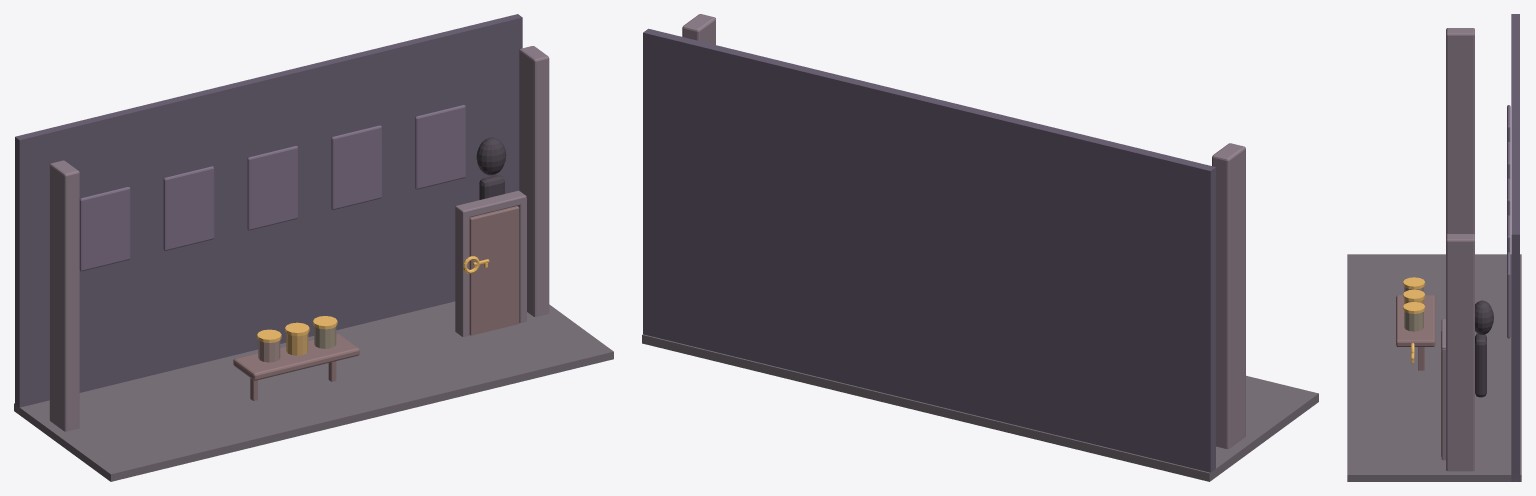
The model's file is fog_ledger_hall.glb.
3 views of the same model, side by side, from view 1: azimuth 30°, elevation 25°; view 2: azimuth 150°, elevation 25°; view 3: azimuth 270°, elevation 25° (orthographic). The views are drawn at different scales.
Visible parts, largest first — view 1: BackWall, HallFloor, WallPillar, WallPillar.001, GateDoor, FadedWallPanel, FadedWallPanel.001, FadedWallPanel.002, FadedWallPanel.003, FadedWallPanel.004, LedgerTable, GateFrameL (+3 smaller); view 2: BackWall, HallFloor, WallPillar, WallPillar.001; view 3: HallFloor, WallPillar.001, WallPillar, BackWall, LedgerTable, WatcherBody, WatcherHead, GateFrameR, BudgetJar.002, FadedWallPanel.004, JarRim, JarRim.001 (+1 smaller).
Boxes of the visible parts, x1,y1,x2,y2 form: BackWall: (15,14,522,407); HallFloor: (14,301,613,481); WallPillar: (49,160,79,431); WallPillar.001: (519,46,549,316); GateDoor: (469,206,519,335); FadedWallPanel: (79,187,130,271); FadedWallPanel.001: (163,166,214,250); FadedWallPanel.002: (247,146,297,230); FadedWallPanel.003: (331,125,381,209); FadedWallPanel.004: (415,105,465,189); LedgerTable: (233,334,359,380); GateFrameL: (455,209,469,336); BackWall: (643,28,1215,477); HallFloor: (642,334,1318,481); WallPillar: (1212,143,1245,449); WallPillar.001: (682,14,715,44); HallFloor: (1347,254,1521,481); WallPillar.001: (1446,234,1474,471); WallPillar: (1446,28,1474,234); BackWall: (1511,14,1519,481); LedgerTable: (1396,295,1435,346); WatcherBody: (1475,333,1486,397); WatcherHead: (1475,300,1493,334); GateFrameR: (1441,349,1445,460); BudgetJar.002: (1404,311,1423,331); FadedWallPanel.004: (1507,252,1510,338); JarRim: (1403,277,1425,289); JarRim.001: (1403,289,1425,301).
Bounding box in the file's own units: 18 × 9.4 × 6.
